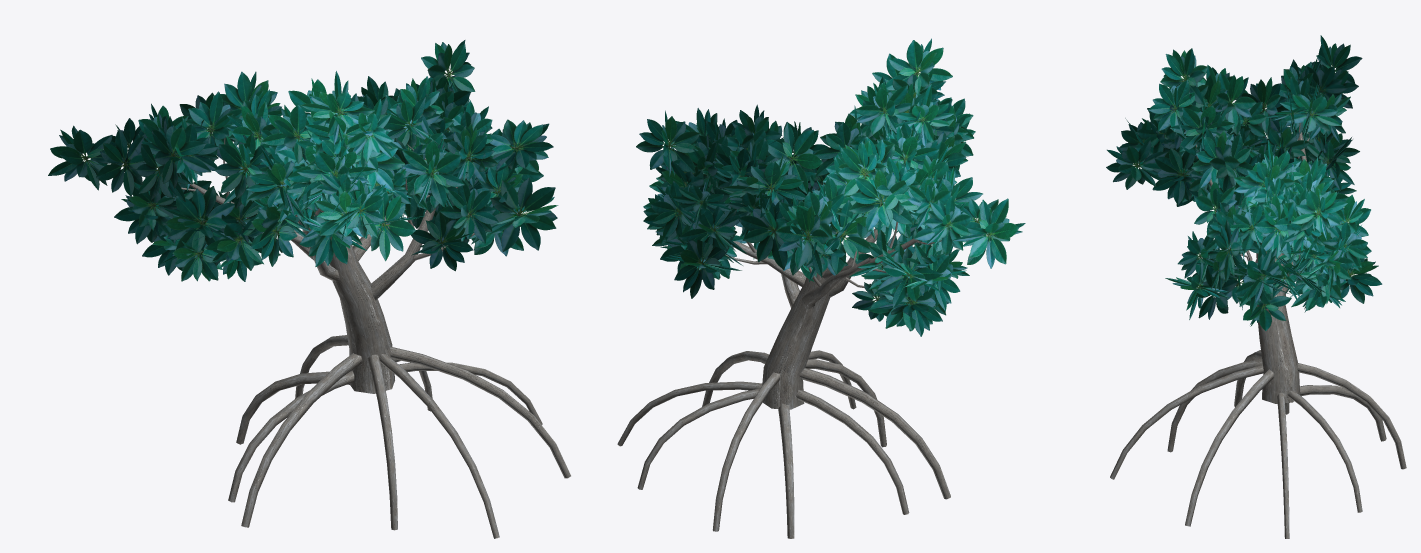
File: nature-blue-mangrove_v4.glb
The picture shows the model from 3 angles, left to right: view 1: azimuth 30°, elevation 25°; view 2: azimuth 150°, elevation 25°; view 3: azimuth 270°, elevation 25°; orthographic projection. The views are drawn at different scales.
Parts seen in each view (by area): view 1: nature-blue-mangrove; view 2: nature-blue-mangrove; view 3: nature-blue-mangrove.
Part boxes in pixels (left/top/right/bottom): nature-blue-mangrove: left=48, top=40, right=570, bottom=538; nature-blue-mangrove: left=617, top=38, right=1025, bottom=538; nature-blue-mangrove: left=1106, top=35, right=1406, bottom=538.
Bounding box in the file's own units: 7.98 × 7.54 × 5.45.
Materials: 2 (2 with a texture image).
